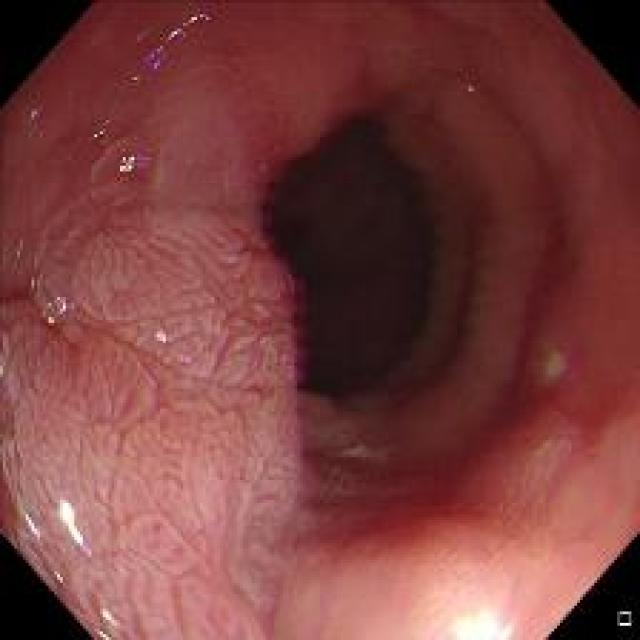color misalignment: (141, 8, 218, 75), (281, 265, 309, 394), (258, 152, 285, 260), (38, 280, 76, 330), (114, 146, 149, 178), (84, 120, 115, 148), (24, 104, 39, 131)
contrast: (246, 81, 489, 421)
saturation: (430, 592, 516, 638)
specularity: (54, 492, 90, 546), (19, 508, 44, 544), (149, 324, 174, 356), (96, 601, 120, 634), (461, 74, 480, 108)
